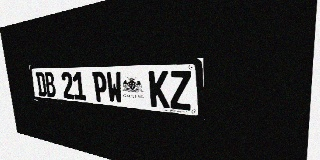1: (72, 72, 86, 100)
2: (61, 72, 74, 99)
B: (44, 72, 56, 98)
D: (35, 72, 47, 97)
K: (148, 71, 170, 109)
P: (92, 71, 108, 103)
W: (106, 71, 123, 104)
Z: (169, 71, 192, 111)
